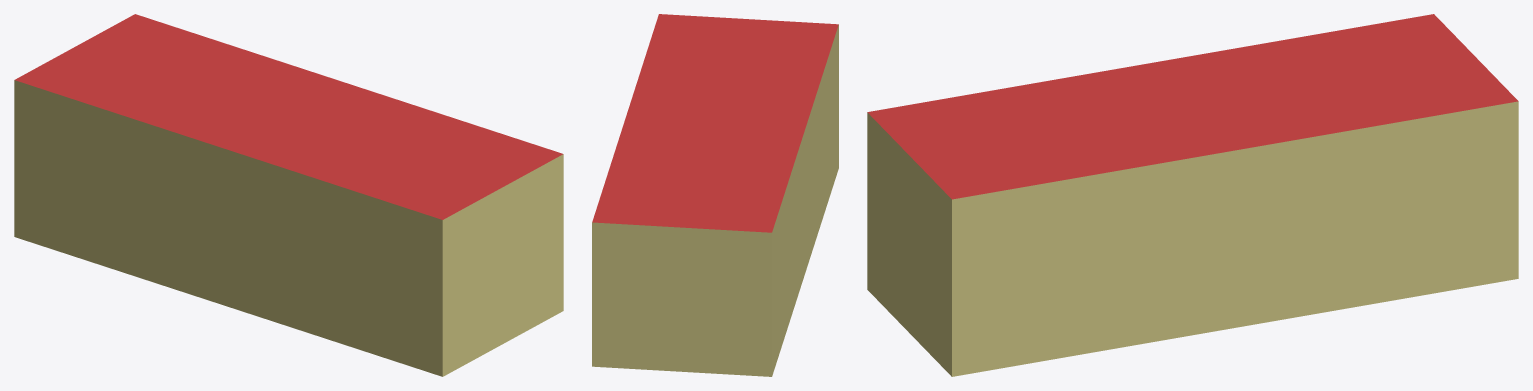
The picture shows the model from 3 angles, left to right: view 1: azimuth 30°, elevation 25°; view 2: azimuth 150°, elevation 25°; view 3: azimuth 270°, elevation 25°; orthographic projection. The views are drawn at different scales.
Size of the model in its own units: 10.8 by 16.03 by 4.82.
